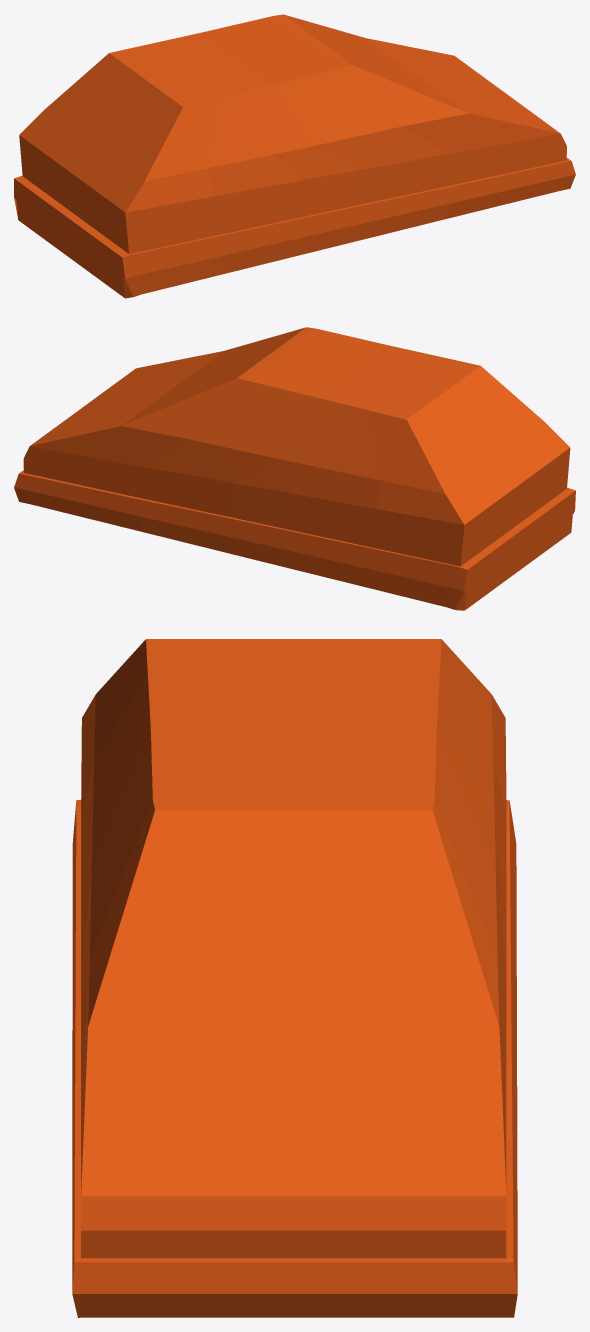
Rendered from low poly car 3.fbx.
3 views of the same model, one above another, from view 1: azimuth 30°, elevation 25°; view 2: azimuth 150°, elevation 25°; view 3: azimuth 270°, elevation 25° (orthographic). The views are drawn at different scales.
Visible parts, largest first — view 1: Cube; view 2: Cube; view 3: Cube.
Boxes of the visible parts, x1,y1,x2,y2 form: Cube: (14, 14, 575, 298); Cube: (14, 327, 575, 610); Cube: (72, 639, 517, 1317).
Bounding box in the file's own units: 658 × 224 × 281.
